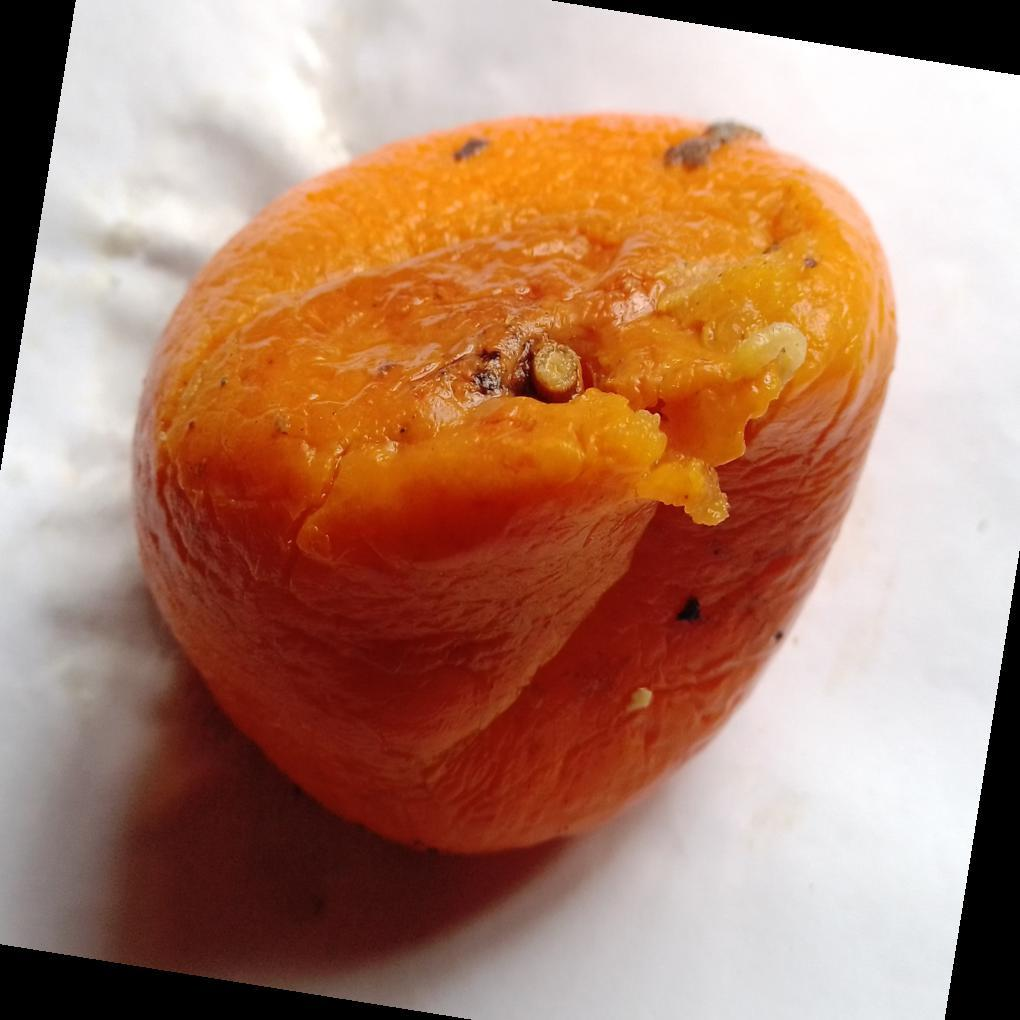FreshOrange: (130, 112, 899, 861)
